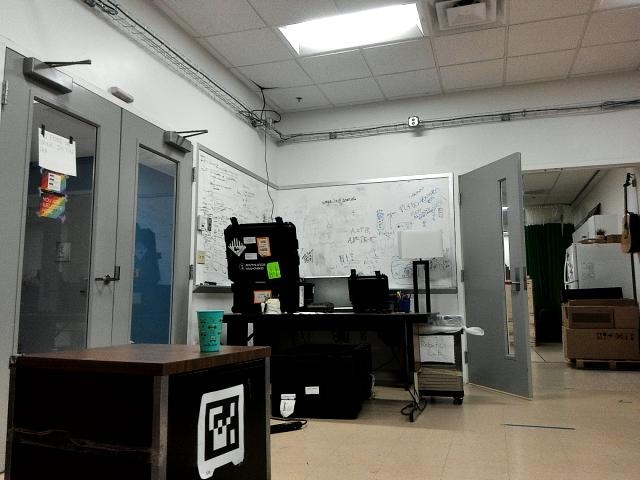coffee_cup: (194, 310, 225, 353)
